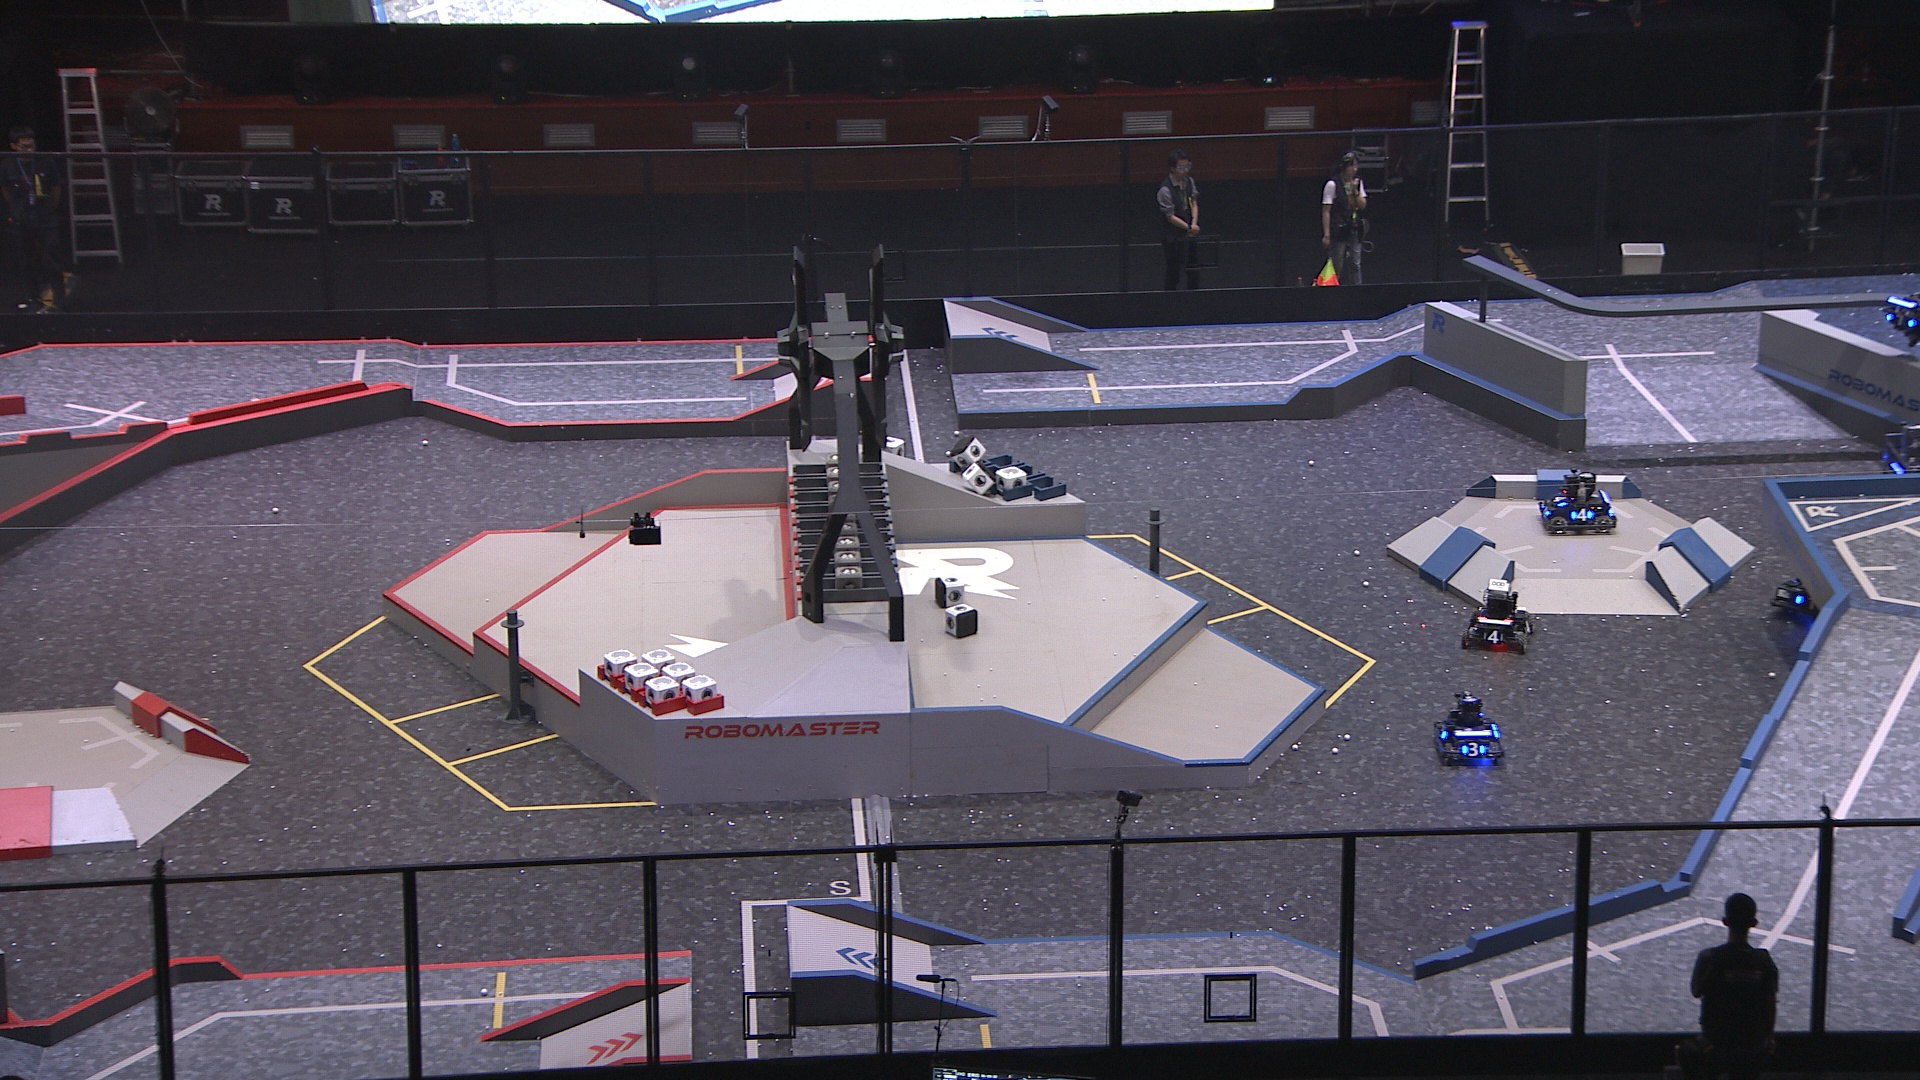armor: (1883, 309, 1915, 327), (1793, 593, 1816, 613), (1462, 741, 1487, 756), (1482, 629, 1505, 645), (1571, 508, 1596, 520), (1553, 491, 1569, 509), (1538, 502, 1552, 522), (1520, 618, 1534, 636), (1437, 723, 1447, 744)
car: (1456, 579, 1532, 654), (1774, 545, 1850, 618), (1536, 469, 1621, 535), (1433, 698, 1503, 764), (1882, 423, 1920, 501)
watcher: (1879, 285, 1920, 349)
